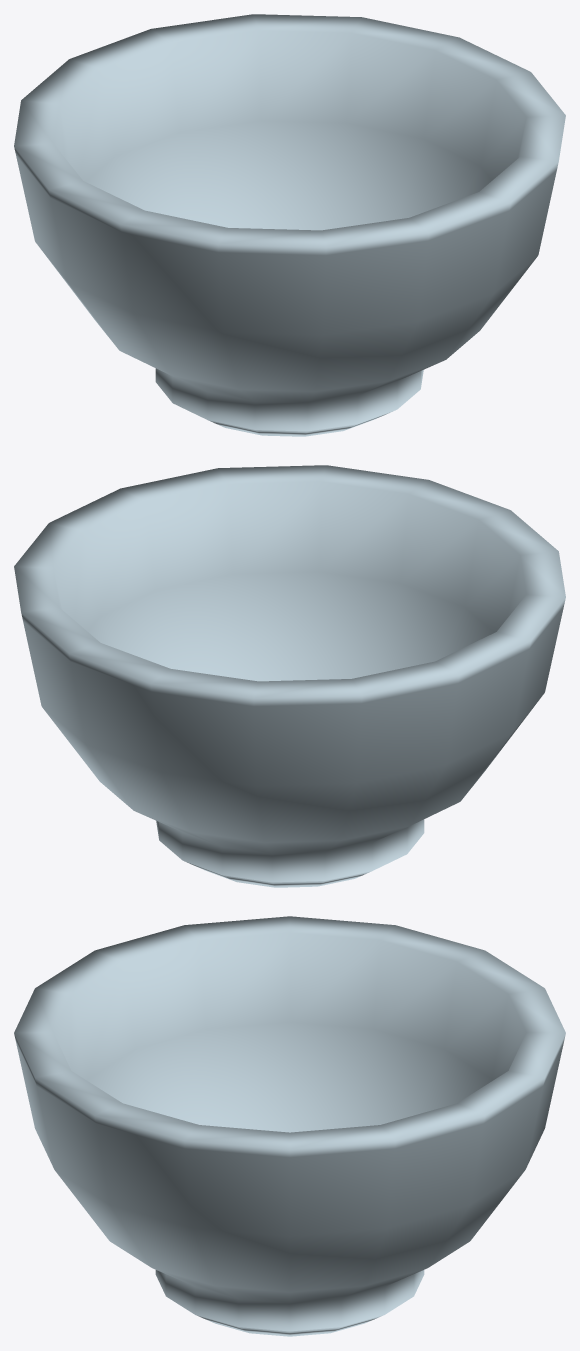
File: Bowl.glb
3 views of the same model, one above another, from view 1: azimuth 30°, elevation 25°; view 2: azimuth 150°, elevation 25°; view 3: azimuth 270°, elevation 25° (orthographic).
Visible parts, largest first — view 1: Sphere; view 2: Sphere; view 3: Sphere.
Boxes of the visible parts, x1=… form: Sphere: x1=14, y1=14, x2=565, y2=436; Sphere: x1=14, y1=465, x2=565, y2=887; Sphere: x1=14, y1=916, x2=565, y2=1336.
Bounding box in the file's own units: 2.32 × 1.2 × 2.32.
